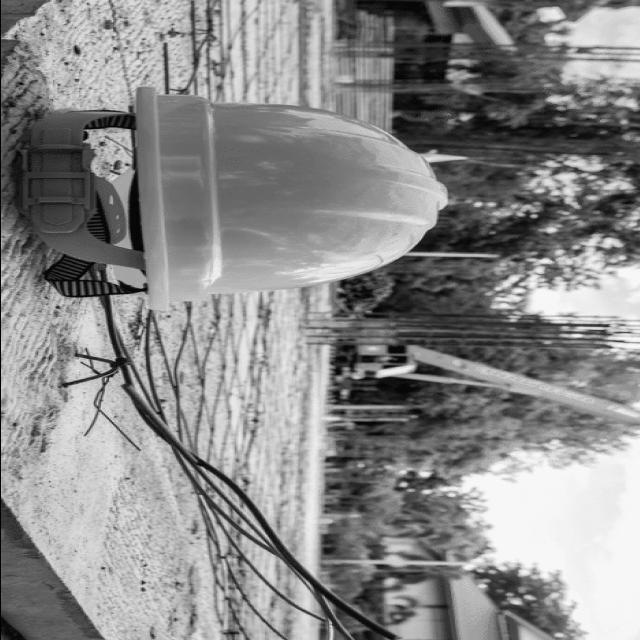safety_helmet: (46, 85, 442, 310)
